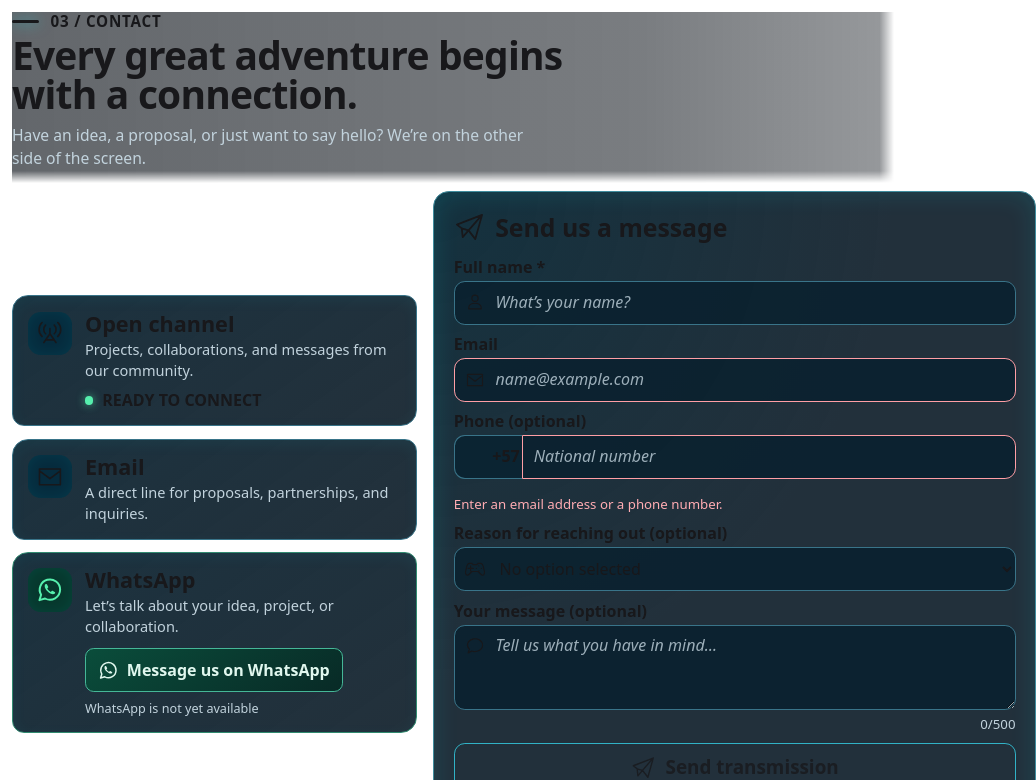
Test case: links the shared contact requirement to both inputs in en
Earlier steps of the test are not shown.
Expected: the message reads "Enter an email address or a phone number.", [454,495,723,513]
Type "+44 20 7946 0018" into the field labelled "Phone (optional)" at [769, 457], box [522,435,1016,479]
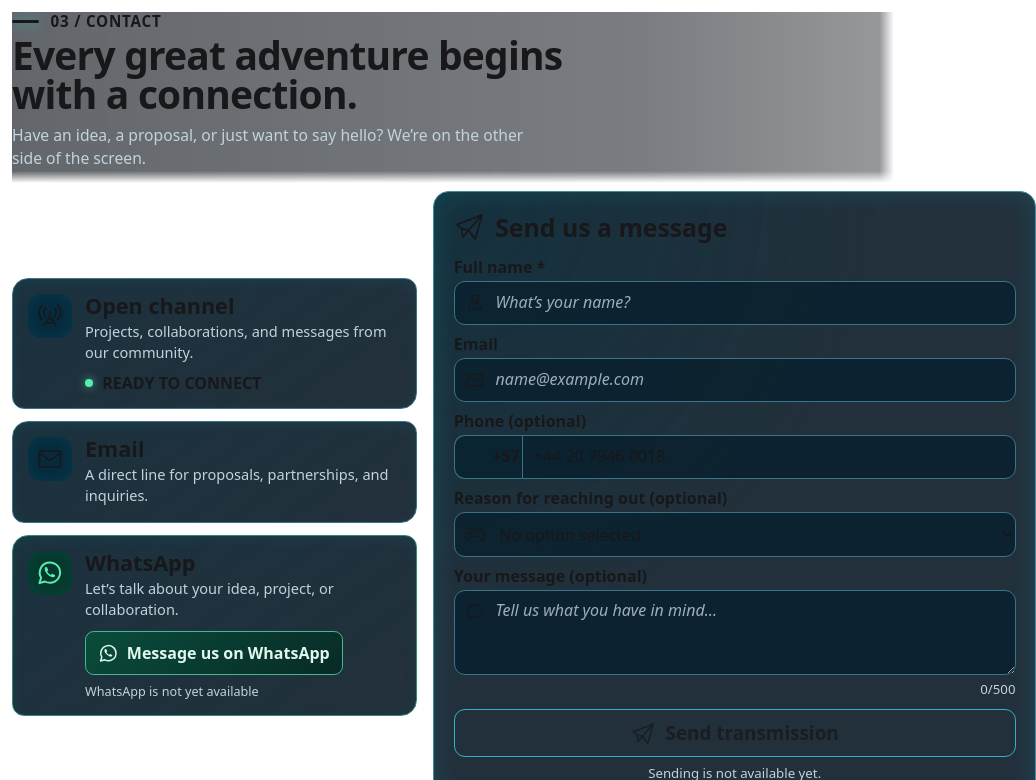
Expected: the message "Enter an email address or a phone number." is gone
Clear the field labelled "Phone (optional)" at [769, 457], box [522,435,1016,479]
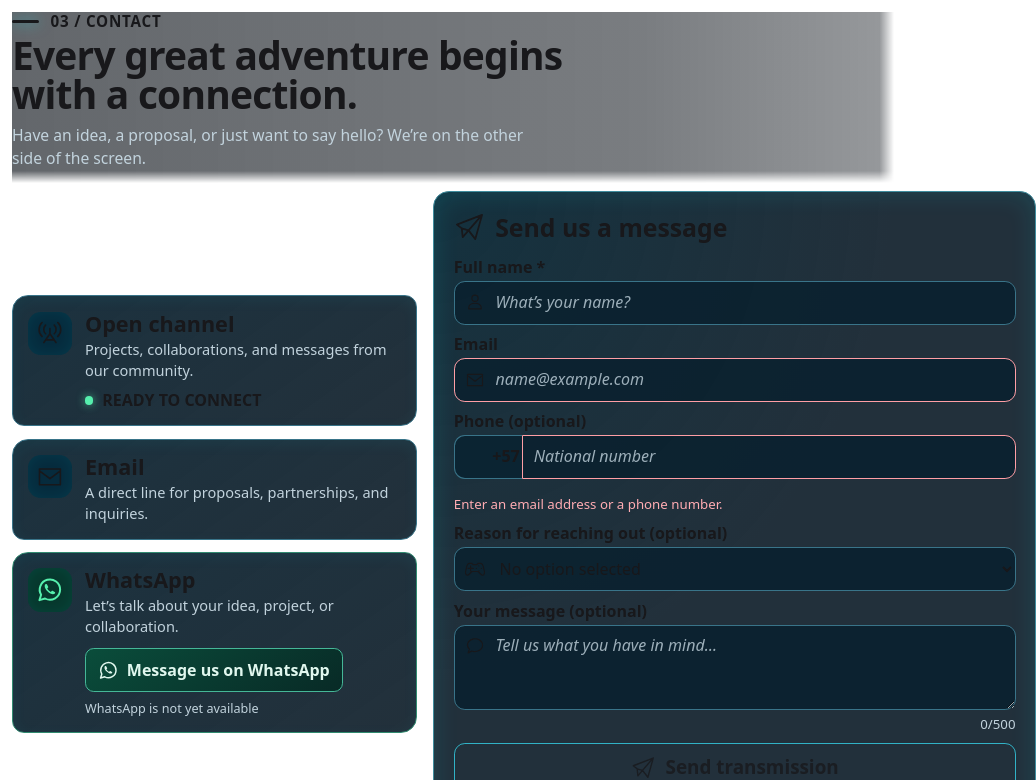
Expected: the message reads "Enter an email address or a phone number.", [454,495,723,513]
Type "studio@example.com" into the field labelled "Email" at [735, 380], box [454,358,1016,402]
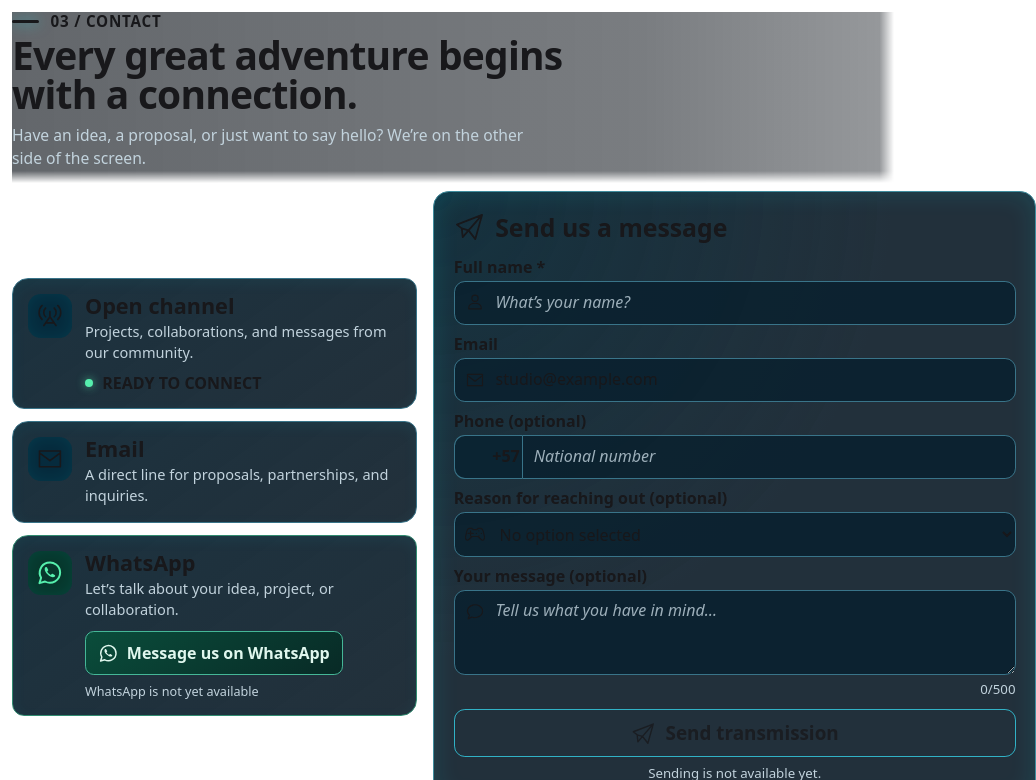
Expected: the message "Enter an email address or a phone number." is gone
